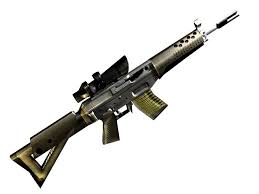gun: (8, 5, 240, 189)
